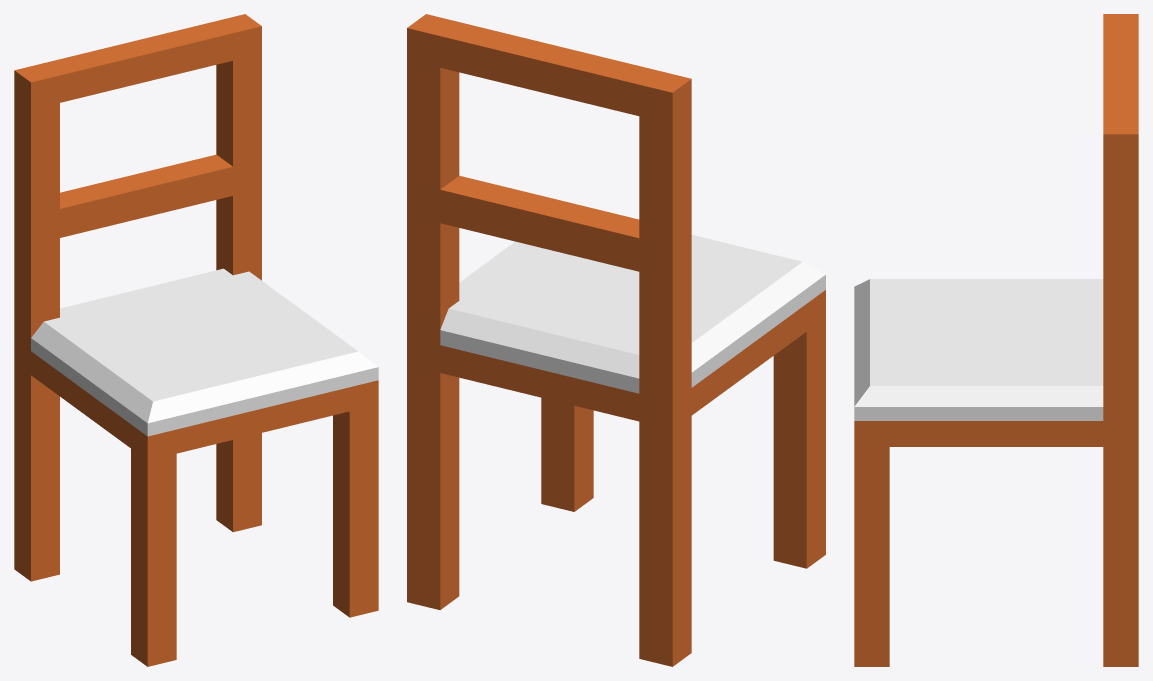
The model's file is Chair.fbx.
3 views of the same model, side by side, from view 1: azimuth 30°, elevation 25°; view 2: azimuth 150°, elevation 25°; view 3: azimuth 270°, elevation 25° (orthographic). The views are drawn at different scales.
Visible parts, largest first — view 1: Chair.7; view 2: Chair.7; view 3: Chair.7.
Part boxes in pixels (left/top/right/bottom): Chair.7: left=14, top=14, right=378, bottom=666; Chair.7: left=407, top=14, right=825, bottom=666; Chair.7: left=854, top=14, right=1138, bottom=666.
Bounding box in the file's own units: 60 × 124 × 60.
